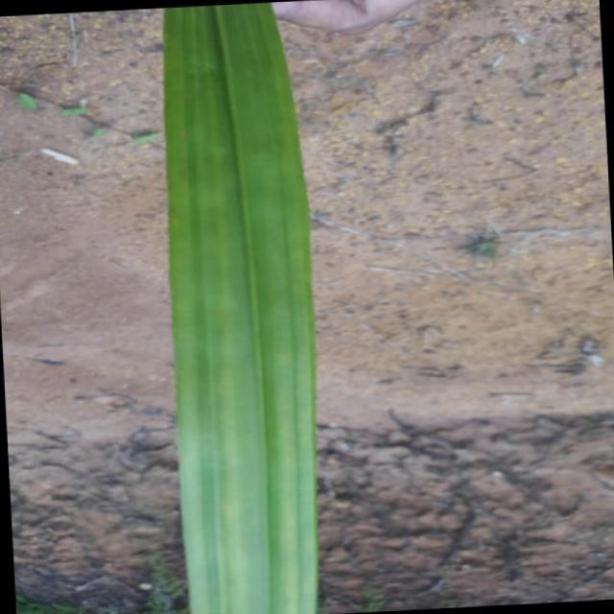nitrogen: (168, 0, 320, 614)
